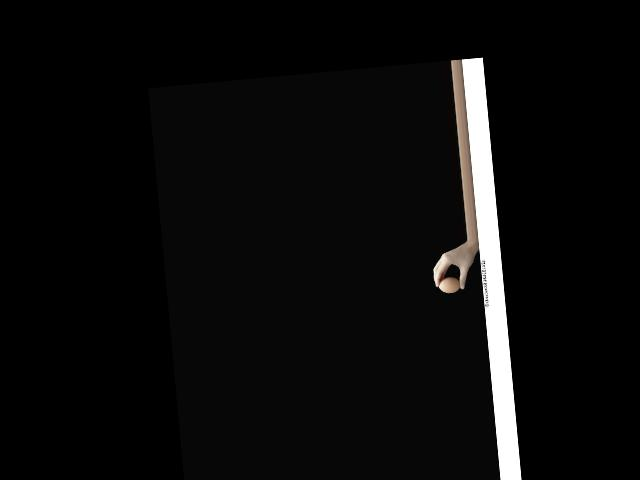egg: (437, 276, 460, 294)
